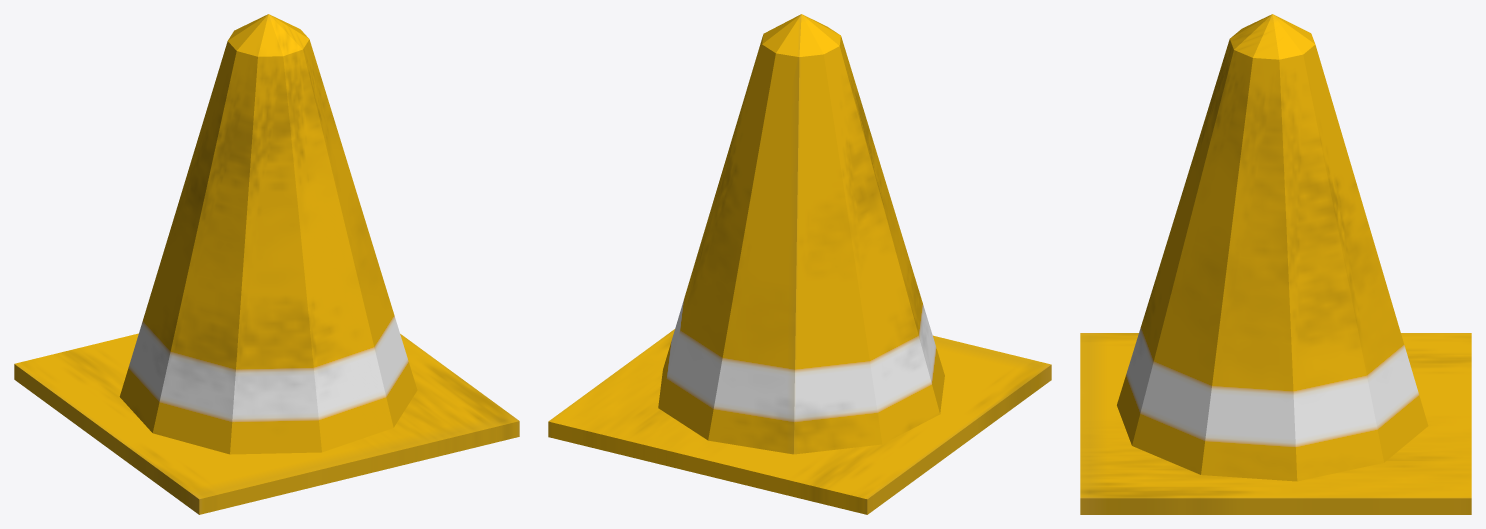
3 renders of one model, left to right at view 1: azimuth 30°, elevation 25°; view 2: azimuth 150°, elevation 25°; view 3: azimuth 270°, elevation 25°, orthographic. The views are drawn at different scales.
Parts seen in each view (by area): view 1: obj0; view 2: obj0; view 3: obj0.
Part boxes in pixels (x1,y1,x2,y2): obj0: (14, 14, 519, 514); obj0: (548, 14, 1051, 514); obj0: (1080, 14, 1471, 514).
Size of what is drawn, in the model's own units: 0.7511 by 0.8852 by 0.7511.
Materials: 1 (1 with a texture image).
